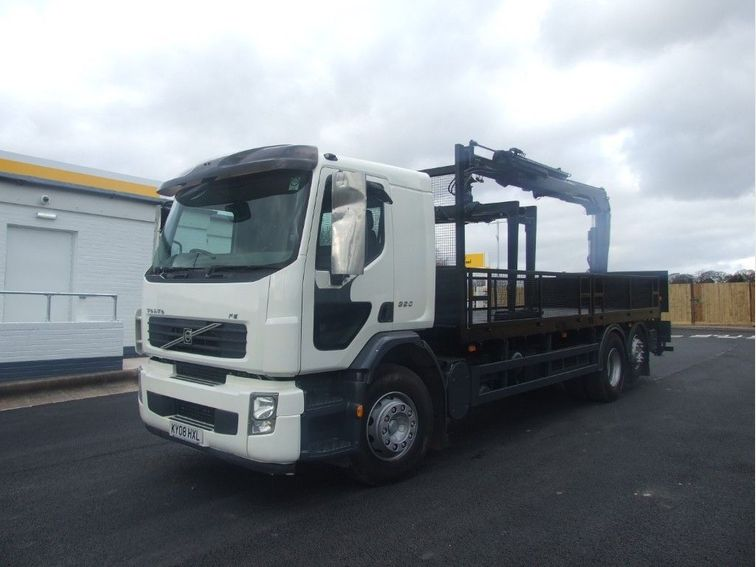Semi: (133, 140, 673, 485)
